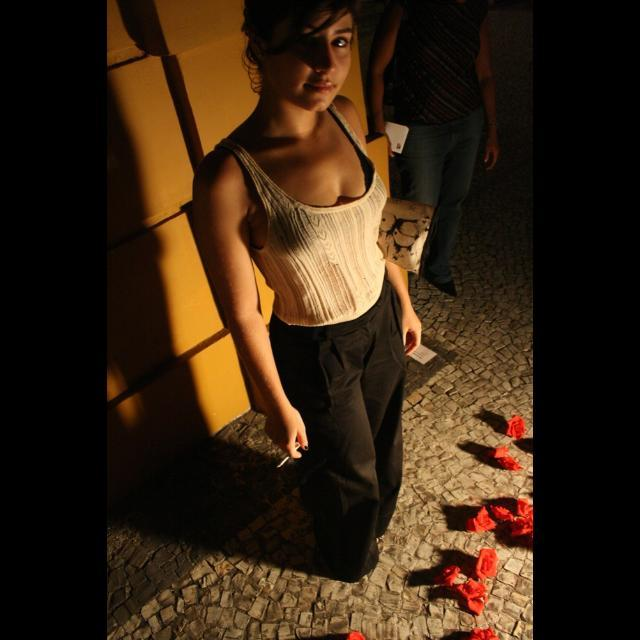rokok: (276, 453, 294, 472)
